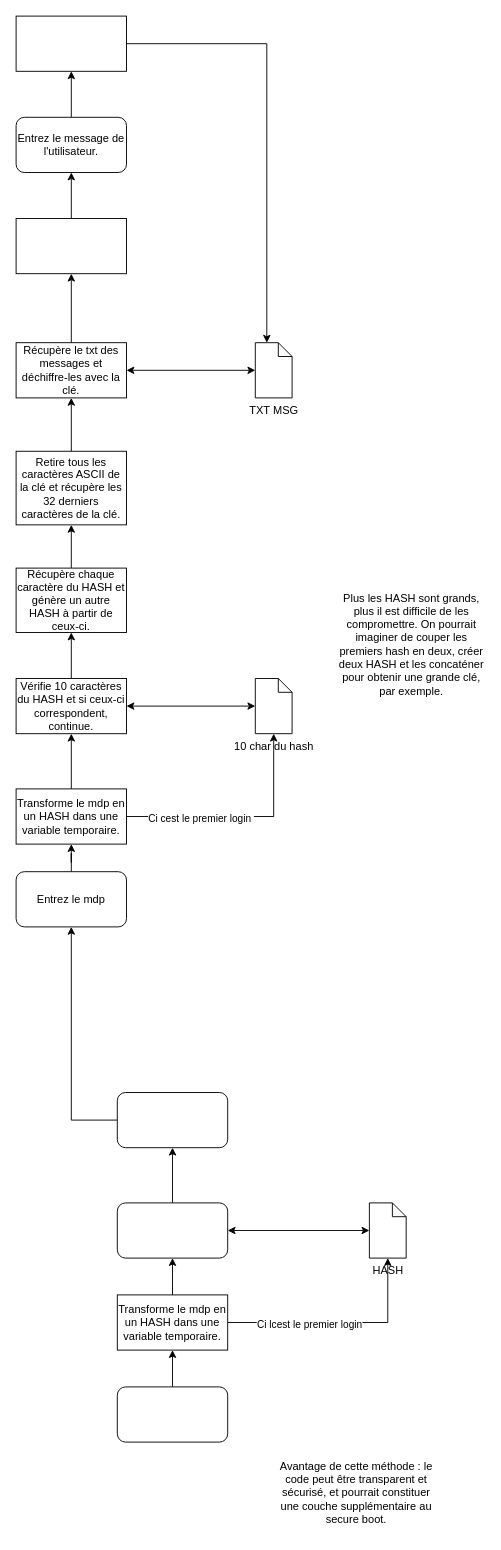
This 501x1550 diagram has some shape labels left out. Here are the shapes that lost their labels. From the top down, the box of each, then its label:
(15, 15, 126, 71): Chiffre le message et enregistre-le dans le fichier .txt.
(15, 218, 126, 274): Affiche le txt récupéré s'il y en a.
(116, 1092, 228, 1148): Accède au chat.
(116, 1202, 228, 1258): On compare le HASH pour vérifier sa validité.
(116, 1386, 228, 1442): Demande le mdp pour continuer
